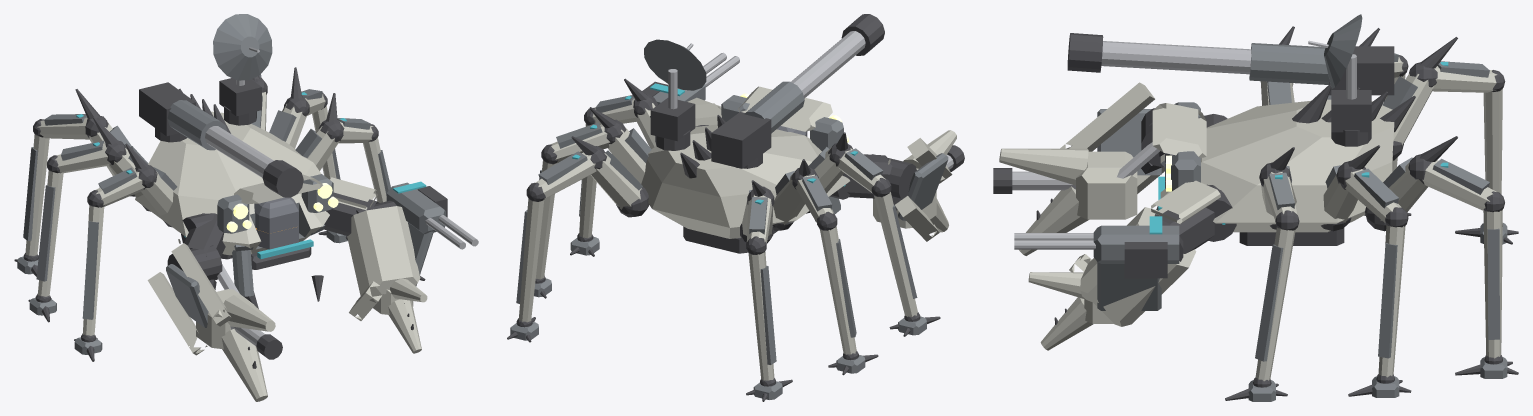
The model's file is mite.glb.
The picture shows the model from 3 angles, left to right: view 1: azimuth 30°, elevation 25°; view 2: azimuth 150°, elevation 25°; view 3: azimuth 270°, elevation 25°; orthographic projection. The views are drawn at different scales.
Parts seen in each view (by area): view 1: carapace, fore1, radar1_dish, fore-1, finger-1, cannon-1_breech, cannon-1_jacket, autocannon1_rec, cannon-1_barrel, canopy, radar1_box, fore_shell-1 (+37 smaller); view 2: carapace, cannon-1_breech, radar1_dish, cannon-1_barrel, tarsus0-1, tarsus21, tarsus1-1, cannon-1_jacket, radar1_box, fore-1, tarsus2-1, fore_shell-1 (+34 smaller); view 3: carapace, cannon-1_barrel, palm-1, cannon-1_jacket, fore1, brow, fore-1, dactyl-1, autocannon1_rec, cannon-1_breech, fore_shell1, tarsus2-1 (+42 smaller).
Boxes of the visible parts, x1=… form: carapace: x1=135, y1=111, x2=329, y2=255; fore1: x1=347, y1=206, x2=420, y2=320; radar1_dish: x1=213, y1=14, x2=272, y2=80; fore-1: x1=147, y1=243, x2=231, y2=355; finger-1: x1=221, y1=329, x2=267, y2=401; cannon-1_breech: x1=139, y1=82, x2=195, y2=136; cannon-1_jacket: x1=167, y1=100, x2=227, y2=150; autocannon1_rec: x1=386, y1=182, x2=445, y2=234; cannon-1_barrel: x1=205, y1=126, x2=273, y2=177; canopy: x1=254, y1=197, x2=298, y2=233; radar1_box: x1=219, y1=78, x2=261, y2=116; fore_shell-1: x1=166, y1=264, x2=208, y2=327; carapace: x1=641, y1=124, x2=849, y2=238; cannon-1_breech: x1=711, y1=112, x2=771, y2=168; radar1_dish: x1=644, y1=39, x2=706, y2=90; cannon-1_barrel: x1=791, y1=31, x2=865, y2=98; tarsus0-1: x1=874, y1=192, x2=917, y2=316; tarsus21: x1=518, y1=198, x2=544, y2=322; tarsus1-1: x1=820, y1=226, x2=856, y2=354; cannon-1_jacket: x1=744, y1=81, x2=804, y2=133; radar1_box: x1=650, y1=98, x2=695, y2=141; fore-1: x1=895, y1=138, x2=952, y2=241; tarsus2-1: x1=748, y1=251, x2=774, y2=380; fore_shell-1: x1=898, y1=153, x2=948, y2=220; carapace: x1=1160, y1=99, x2=1394, y2=232; cannon-1_barrel: x1=1101, y1=41, x2=1251, y2=74; palm-1: x1=1076, y1=151, x2=1137, y2=219; cannon-1_jacket: x1=1249, y1=43, x2=1328, y2=84; fore1: x1=1069, y1=207, x2=1196, y2=326; brow: x1=1152, y1=103, x2=1206, y2=157; fore-1: x1=1060, y1=82, x2=1164, y2=193; dactyl-1: x1=999, y1=148, x2=1088, y2=185; autocannon1_rec: x1=1093, y1=225, x2=1179, y2=263; cannon-1_breech: x1=1329, y1=46, x2=1394, y2=95; fore_shell1: x1=1097, y1=262, x2=1161, y2=310; tarsus2-1: x1=1483, y1=88, x2=1502, y2=194.
Bounding box in the file's own units: 18.2 × 13.47 × 20.82.
